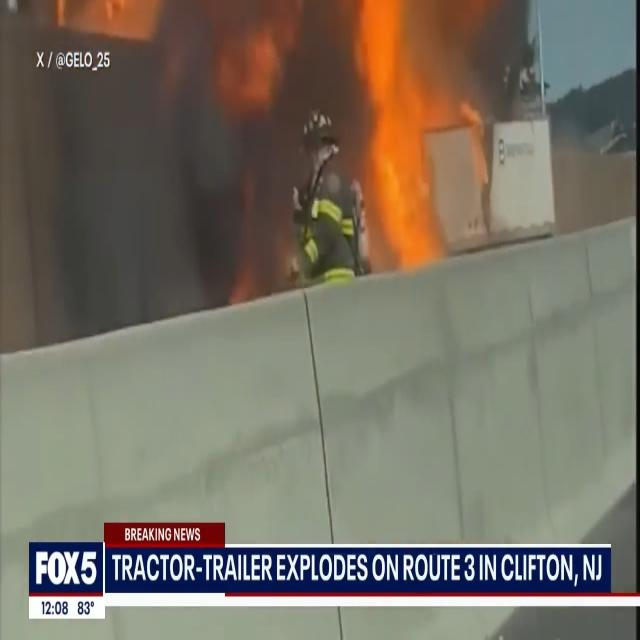fire: (362, 0, 456, 260)
